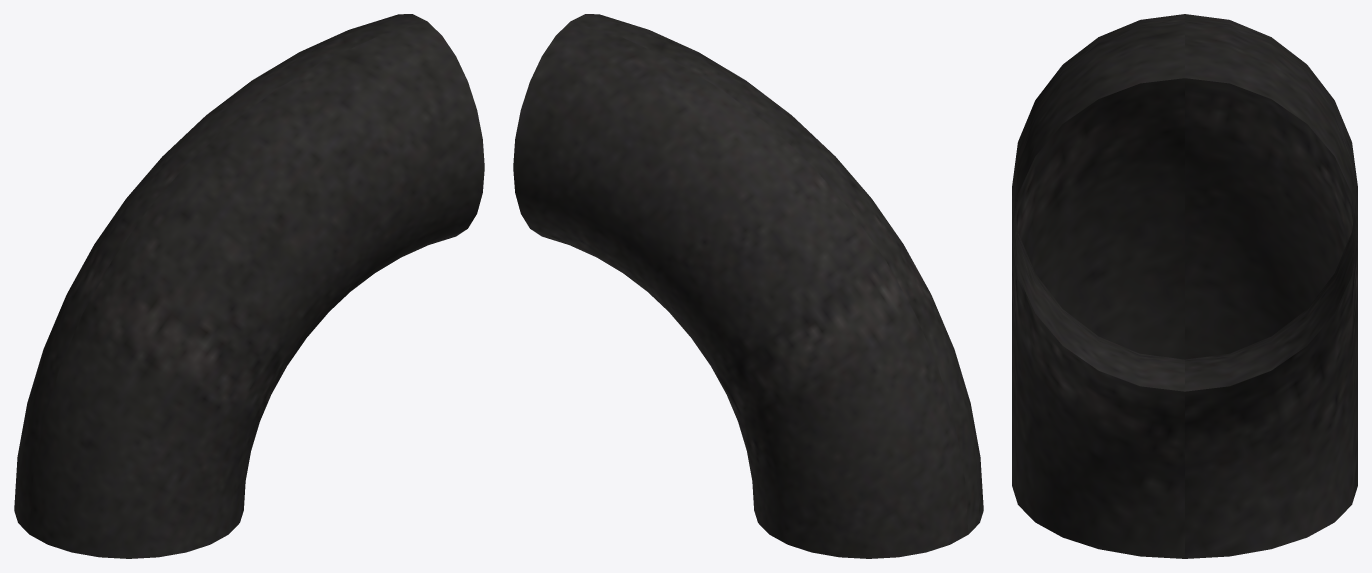
Rendered from pipe_1_corner.obj.
3 renders of one model, left to right at view 1: azimuth 30°, elevation 25°; view 2: azimuth 150°, elevation 25°; view 3: azimuth 270°, elevation 25°, orthographic. The views are drawn at different scales.
Visible parts, largest first — view 1: pipe_1_corner; view 2: pipe_1_corner; view 3: pipe_1_corner.
Part boxes in pixels (x1,y1,x2,y2): pipe_1_corner: (14,14,484,558); pipe_1_corner: (513,14,983,558); pipe_1_corner: (1012,14,1357,558).
Size of the model in its own units: 0.4 by 0.4 by 0.2.
